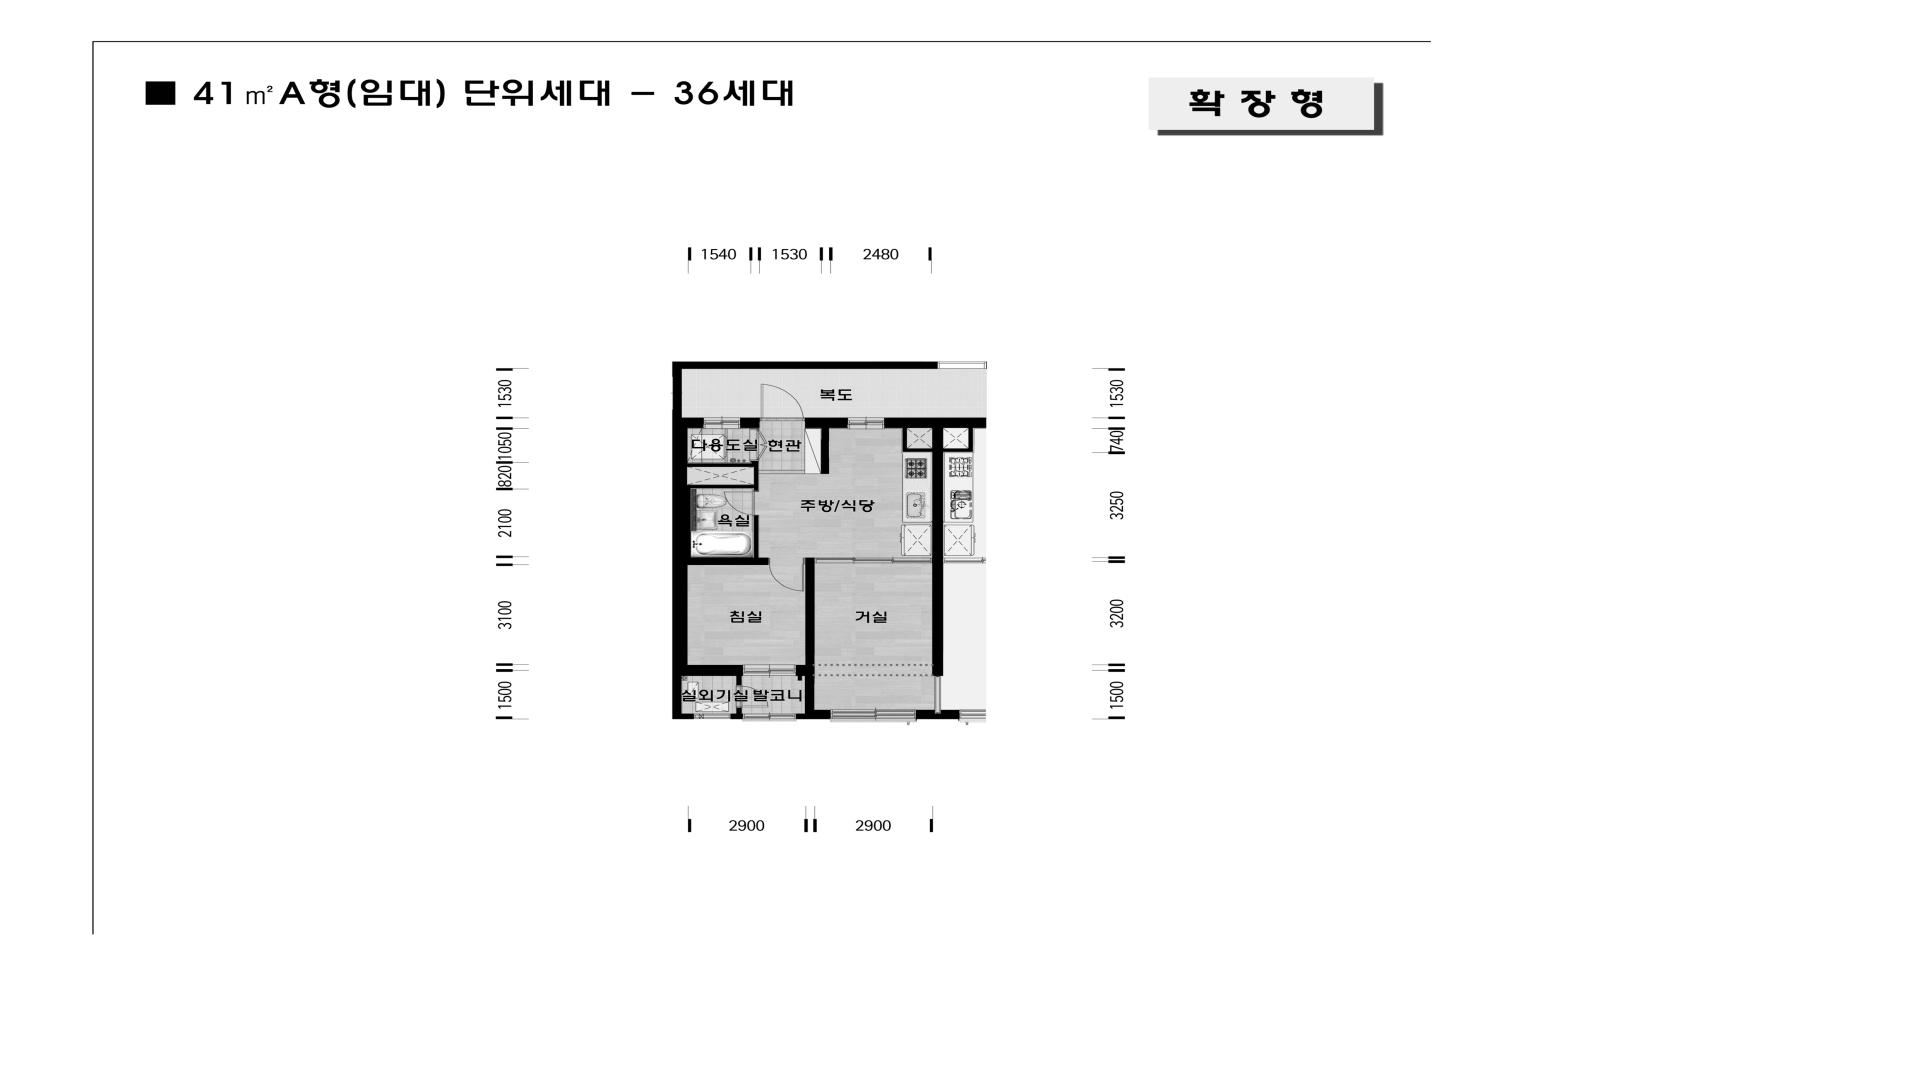door: (760, 384, 804, 421), (769, 558, 806, 591), (724, 491, 758, 517), (736, 686, 769, 708), (749, 427, 769, 462)
wall: (673, 369, 691, 719), (932, 418, 943, 675), (673, 361, 938, 369), (804, 558, 815, 709), (903, 427, 932, 452), (688, 665, 742, 676), (691, 558, 769, 564), (885, 418, 932, 429), (804, 418, 848, 429), (822, 427, 829, 473), (796, 709, 831, 719), (916, 709, 944, 719), (935, 675, 942, 713), (687, 463, 750, 467), (750, 462, 758, 491), (740, 418, 760, 427), (691, 485, 754, 488), (754, 517, 758, 558), (687, 418, 704, 427), (796, 665, 804, 676), (682, 713, 694, 719), (731, 713, 742, 719), (736, 675, 741, 686), (736, 708, 741, 713)
window: (831, 709, 916, 721), (742, 665, 796, 676), (815, 558, 932, 563), (742, 713, 796, 721), (848, 418, 885, 429), (938, 361, 986, 369), (704, 418, 740, 429), (694, 713, 731, 719)
